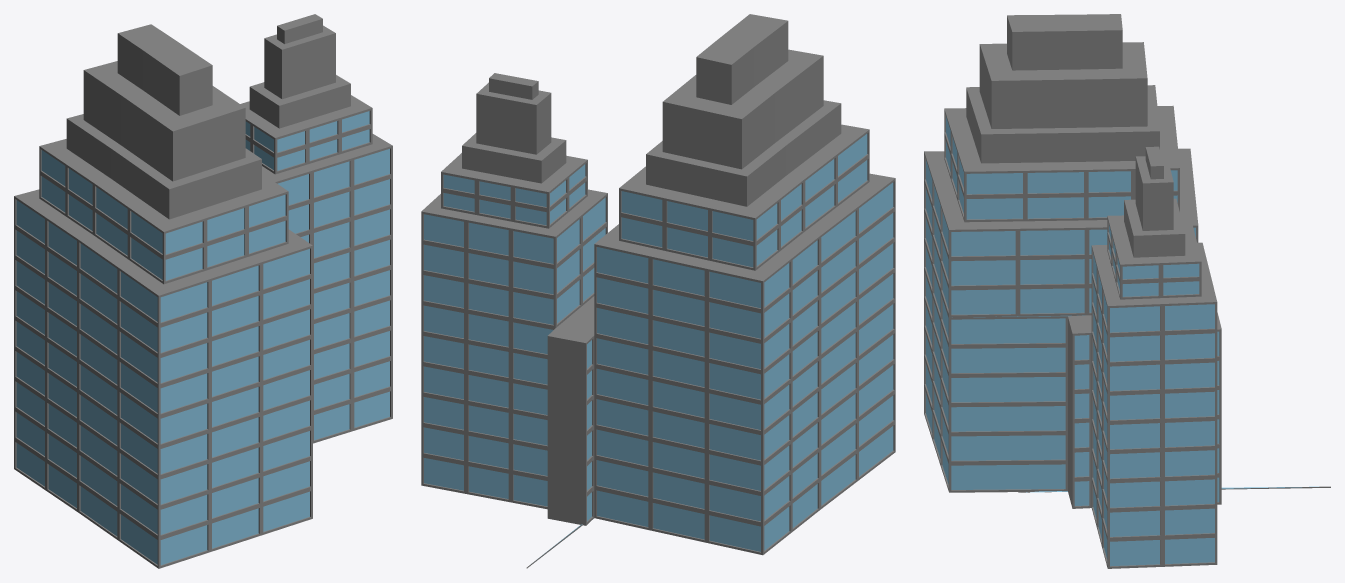
Rendered from gedung gandeng.fbx.
3 renders of one model, left to right at view 1: azimuth 30°, elevation 25°; view 2: azimuth 150°, elevation 25°; view 3: azimuth 270°, elevation 25°, orthographic. The views are drawn at different scales.
Parts seen in each view (by area): view 1: gedung gandeng; view 2: gedung gandeng; view 3: gedung gandeng.
Boxes of the visible parts, x1,y1,x2,y2 form: gedung gandeng: [14, 14, 392, 568]; gedung gandeng: [421, 14, 895, 568]; gedung gandeng: [924, 14, 1330, 568].
Bounding box in the file's own units: 6683 × 8484 × 7287.
